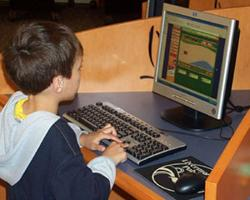person: (1, 20, 127, 200)
